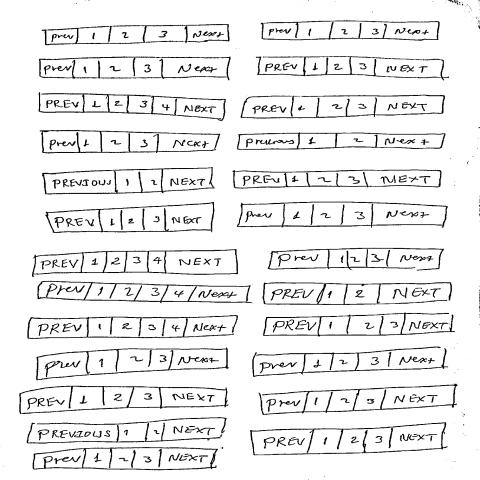Pagination: (250, 422, 447, 457), (258, 383, 458, 417), (36, 348, 231, 382), (252, 347, 449, 379), (26, 415, 228, 446), (237, 200, 450, 229), (19, 386, 230, 415), (31, 249, 240, 278), (46, 202, 217, 235), (26, 315, 239, 341), (38, 93, 228, 122), (37, 281, 253, 305), (240, 95, 447, 120), (41, 168, 215, 197), (37, 57, 234, 81), (232, 169, 444, 191), (32, 447, 218, 472), (261, 282, 453, 306), (256, 57, 447, 81), (263, 313, 454, 337), (41, 130, 222, 155), (44, 24, 232, 47), (267, 248, 446, 272), (236, 132, 448, 152), (261, 20, 442, 43)
